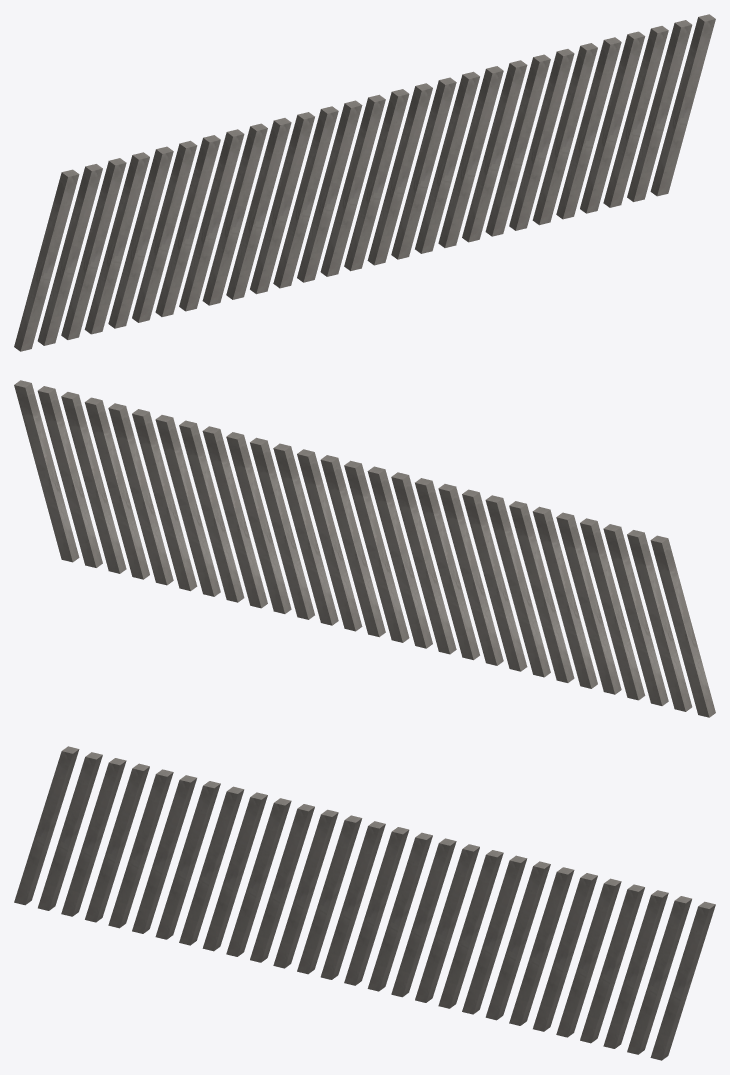
File: MESH_LevelWall.fbx
3 views of the same model, one above another, from view 1: azimuth 30°, elevation 25°; view 2: azimuth 150°, elevation 25°; view 3: azimuth 330°, elevation 25° (orthographic).
Parts seen in each view (by area): view 1: Cube.016; view 2: Cube.016; view 3: Cube.016.
Boxes of the visible parts, bbox=[...] form: Cube.016: bbox=[14, 14, 715, 351]; Cube.016: bbox=[14, 380, 715, 717]; Cube.016: bbox=[14, 746, 715, 1060].
Size of the model in its own units: 2440 by 547 by 39.65.
